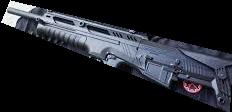gun: (1, 0, 232, 112)
